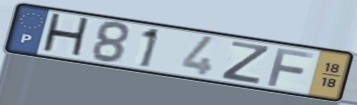1: (138, 28, 162, 70)
4: (179, 34, 218, 79)
8: (88, 20, 133, 65)
F: (265, 46, 317, 88)
H: (39, 11, 93, 60)
Z: (219, 39, 273, 86)
